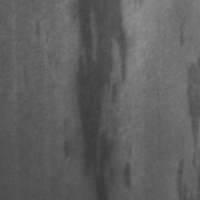inclusion: (66, 1, 133, 198), (178, 56, 199, 167), (57, 108, 78, 169), (171, 155, 193, 200), (174, 18, 190, 51)
